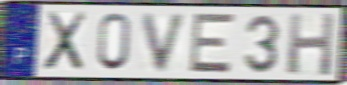0: (96, 12, 133, 73)
3: (242, 13, 282, 75)
E: (186, 11, 238, 75)
H: (285, 11, 337, 79)
V: (139, 11, 191, 74)
X: (41, 10, 89, 73)
